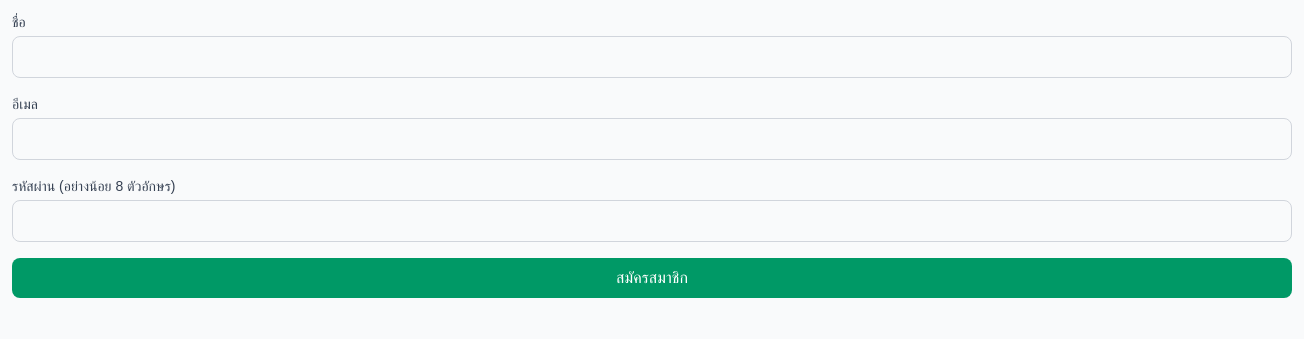
Test: <RegisterForm /> › shows EMAIL_TAKEN on the email field
Type "สมชาย" into the field labelled "ชื่อ". click: coordinates (652, 57)
box: [12, 36, 1292, 78]
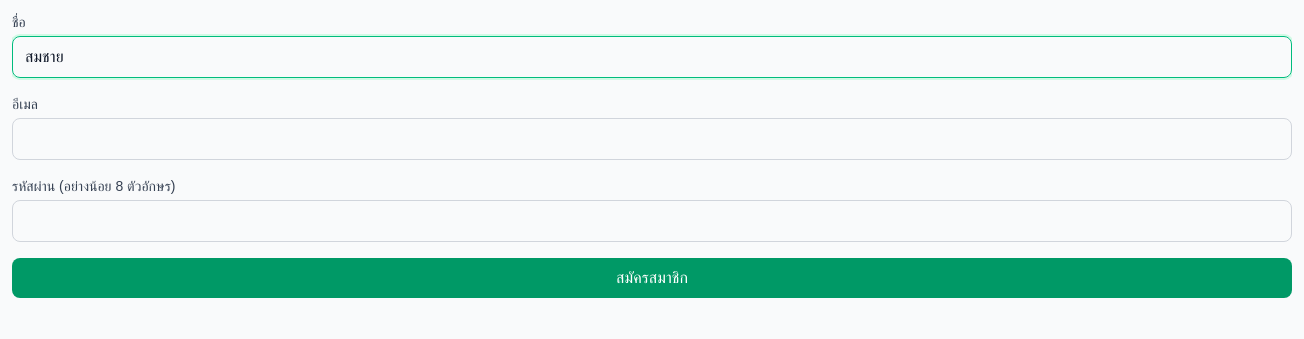
Type "taken@example.com" into the field labelled "อีเมล". click: coordinates (652, 139)
box: [12, 118, 1292, 160]
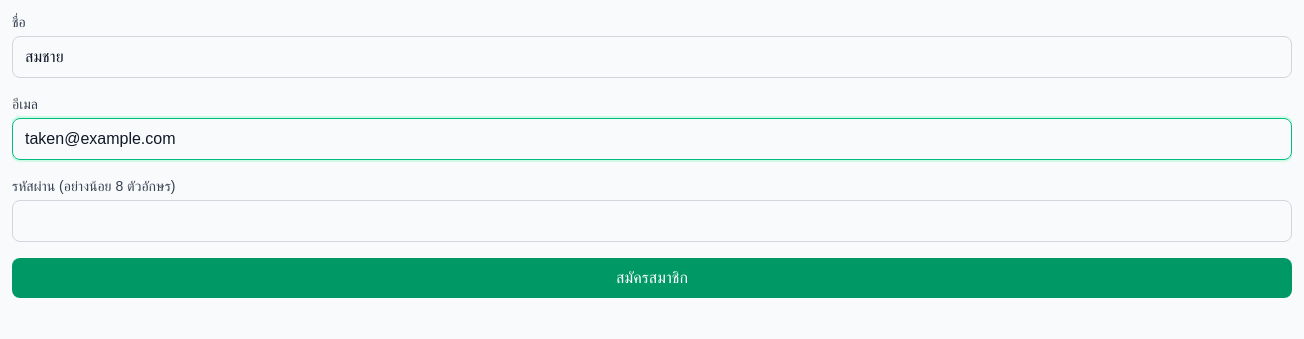
Type "correct-horse-1" into the password field labelled "รหัสผ่าน (อย่างน้อย 8 ตัวอักษร)". click: coordinates (652, 221)
box: [12, 200, 1292, 242]
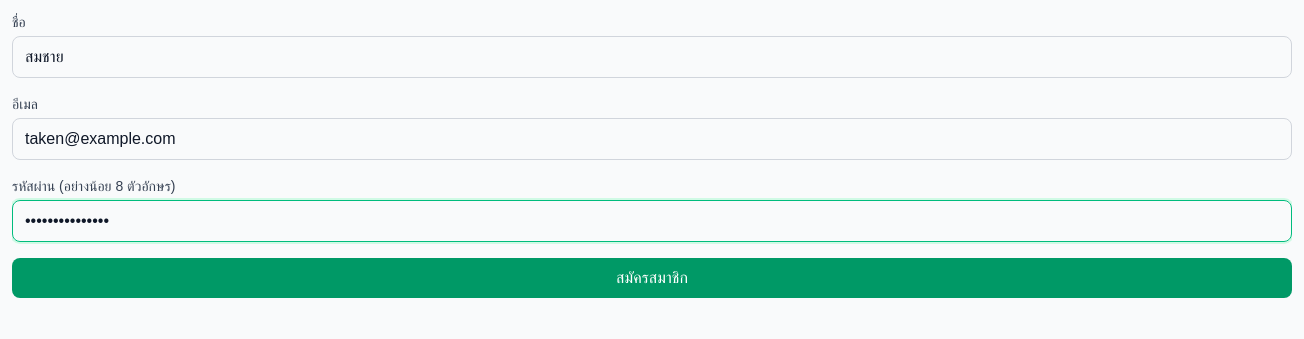
Click the button "สมัครสมาชิก". click: coordinates (652, 278)
box: [12, 258, 1292, 298]
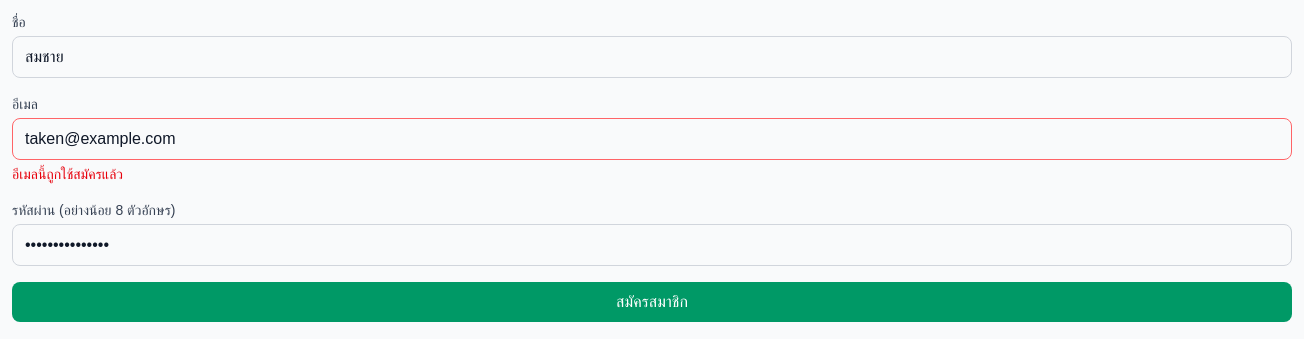
Check: the text "อีเมลนี้ถูกใช้สมัครแล้ว" is shown, box [12, 166, 123, 182]
